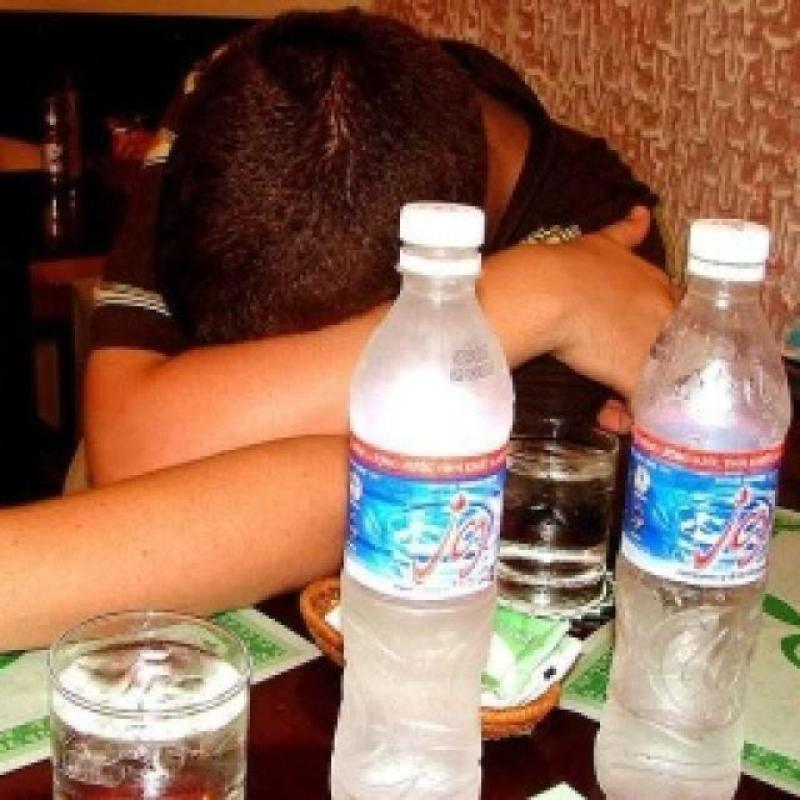botella: (592, 219, 789, 800), (320, 196, 489, 800)
